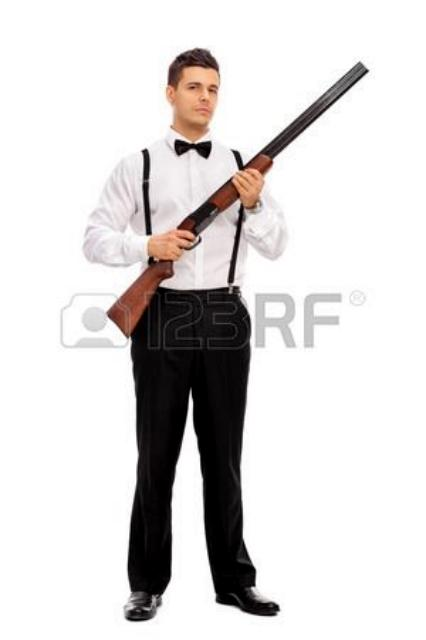rifle: (106, 57, 378, 340)
